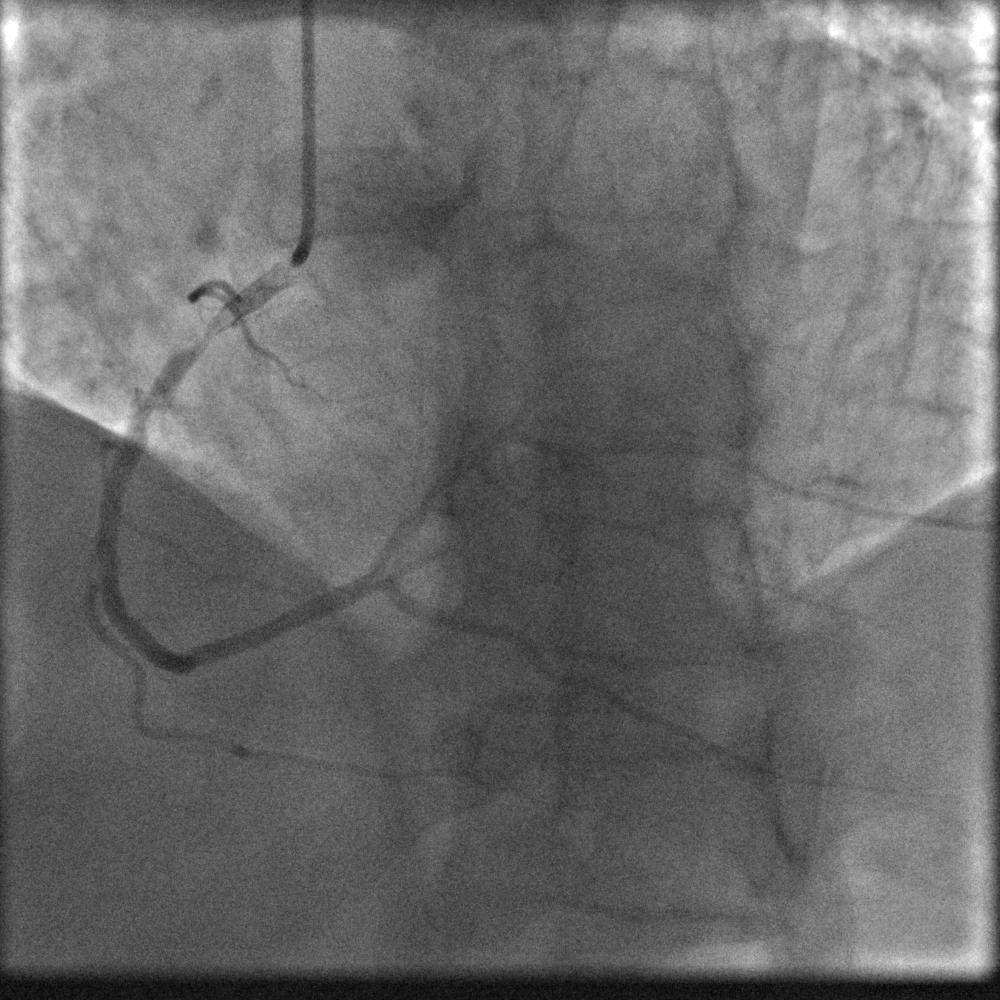Stenosis: (184, 309, 224, 370)
